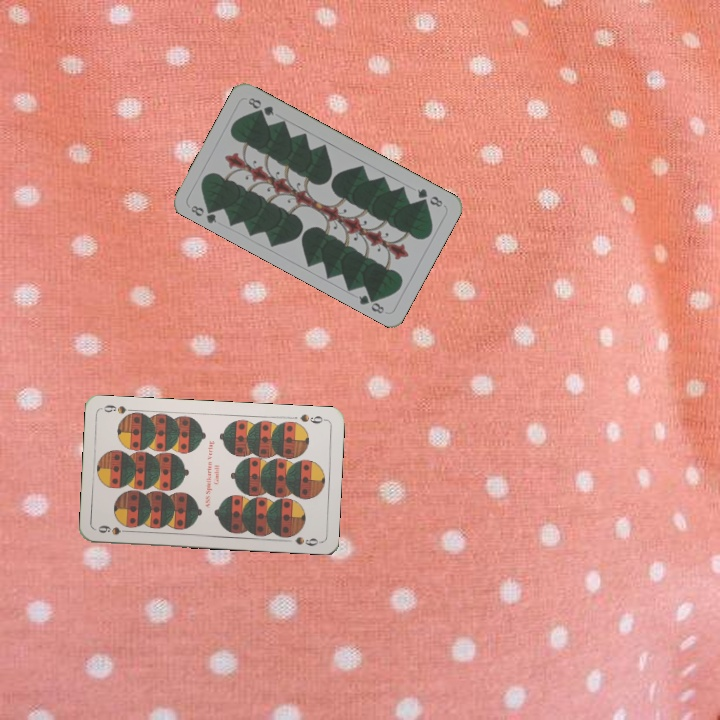G8: (413, 184, 445, 210), (187, 201, 219, 226)
S9: (95, 521, 134, 538), (296, 410, 328, 426)
